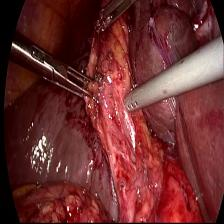Grasper: (40, 56, 100, 109), (94, 0, 140, 34)
Irrigator: (123, 84, 150, 119)
